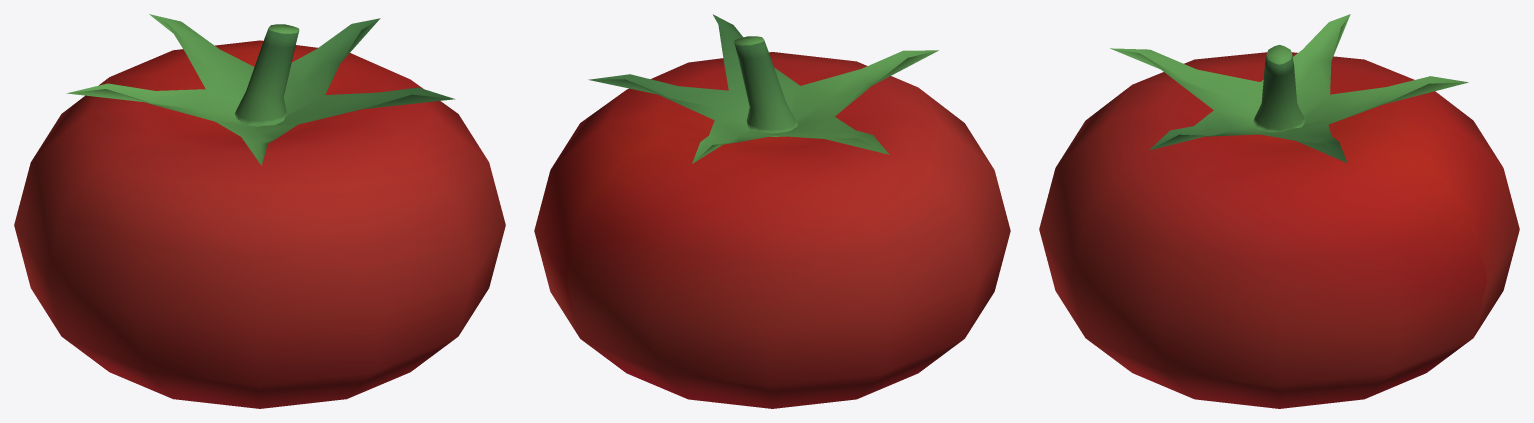
The model's file is Tomato_Wholee.fbx.
3 views of the same model, side by side, from view 1: azimuth 30°, elevation 25°; view 2: azimuth 150°, elevation 25°; view 3: azimuth 270°, elevation 25° (orthographic). The views are drawn at different scales.
Visible parts, largest first — view 1: Tomato_Whole; view 2: Tomato_Whole; view 3: Tomato_Whole.
Part boxes in pixels (x1,y1,x2,y2): Tomato_Whole: (14,14,505,408); Tomato_Whole: (534,14,1010,408); Tomato_Whole: (1039,14,1519,408).
Bounding box in the file's own units: 36.58 × 26.77 × 36.58.
Materials: 1 (1 with a texture image).
